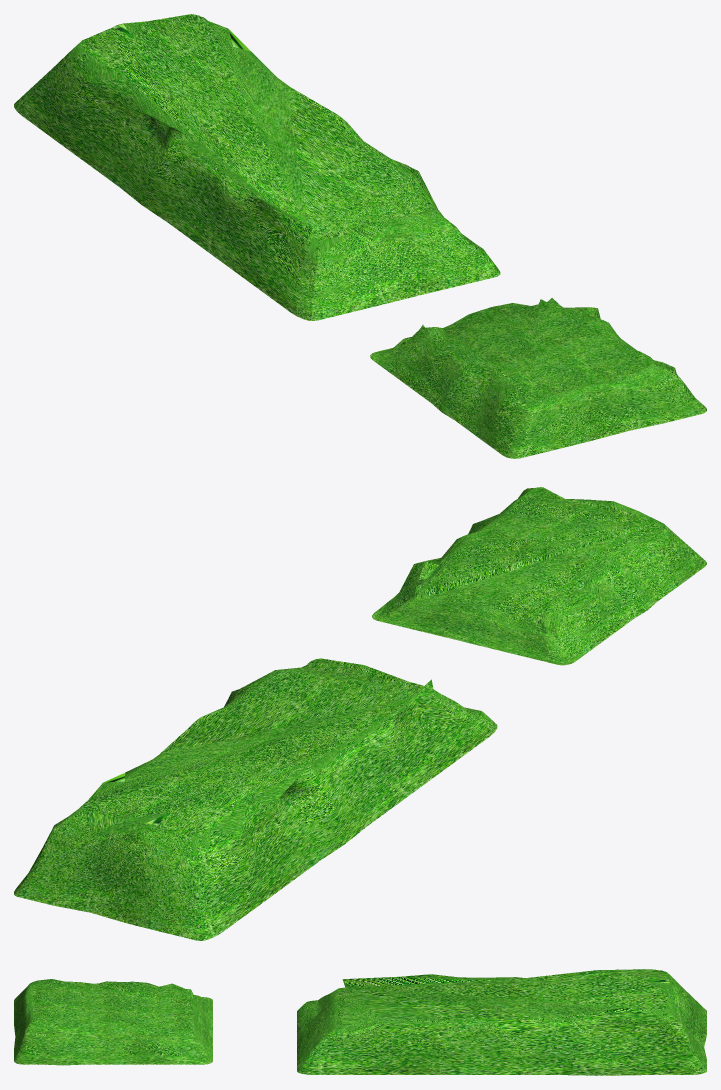
File: montañas.fbx
The picture shows the model from 3 angles, top to bottom: view 1: azimuth 30°, elevation 25°; view 2: azimuth 150°, elevation 25°; view 3: azimuth 270°, elevation 25°; orthographic projection. The views are drawn at different scales.
Visible parts, largest first — view 1: Cube.064, Cube.181; view 2: Cube.064, Cube.181; view 3: Cube.064, Cube.181.
Boxes of the visible parts, x1,y1,x2,y2 form: Cube.064: (14,14,500,320); Cube.181: (370,298,706,458); Cube.064: (14,658,497,940); Cube.181: (372,487,706,665); Cube.064: (297,969,706,1075); Cube.181: (14,979,212,1065).
Size of the model in its own units: 72.74 by 26.33 by 306.
